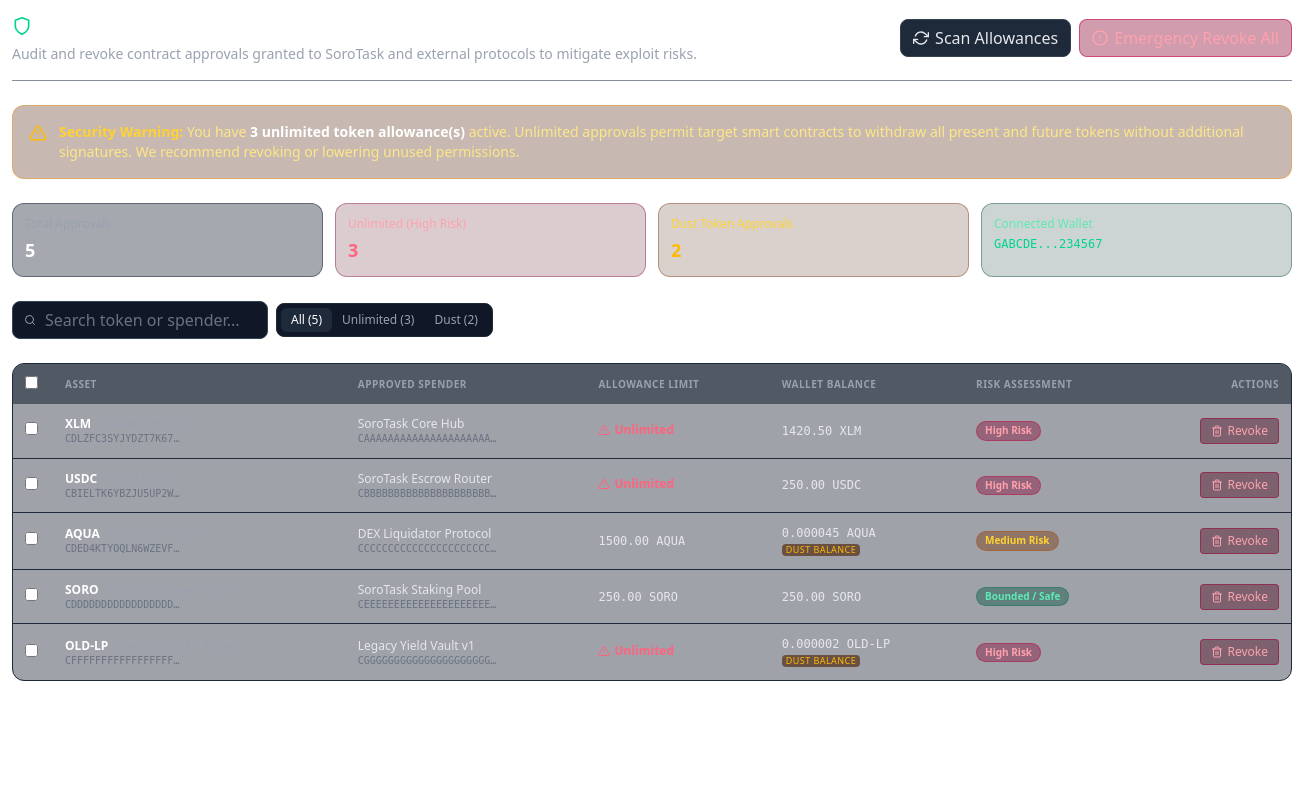
it: AllowanceManager Component › filters allowances by dust token approvals
Click the button with test id "filter-dust-btn" at x=456, y=320, box x1=424 y1=308 x2=488 y2=332
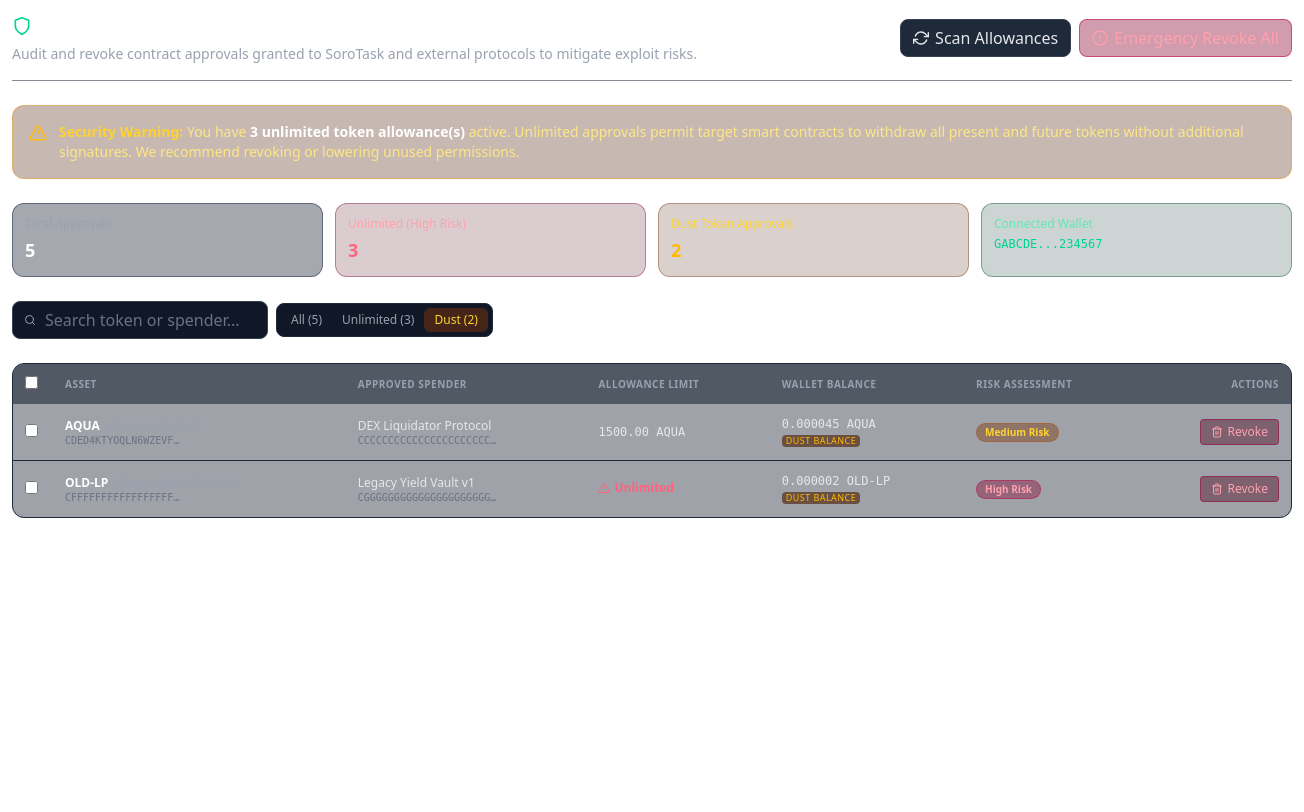
Expected: the row with test id "allowance-row-allowance-3" is shown, x1=13 y1=404 x2=1291 y2=461
Expected: the row with test id "allowance-row-allowance-1" is gone
